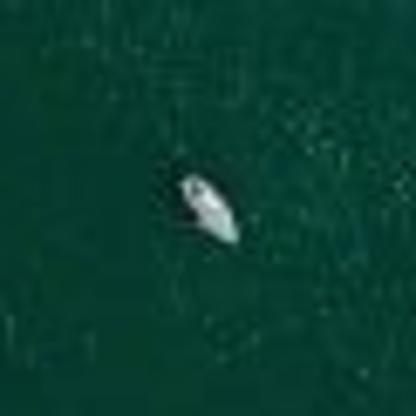ship: (168, 168, 260, 258)
